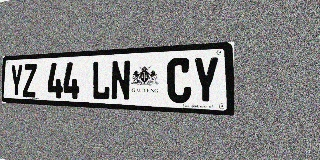4: (63, 62, 80, 99), (48, 63, 63, 99)
C: (167, 57, 192, 104)
L: (92, 61, 110, 100)
N: (111, 60, 131, 101)
Y: (192, 56, 219, 105), (10, 64, 23, 97)
Z: (23, 64, 37, 97)
